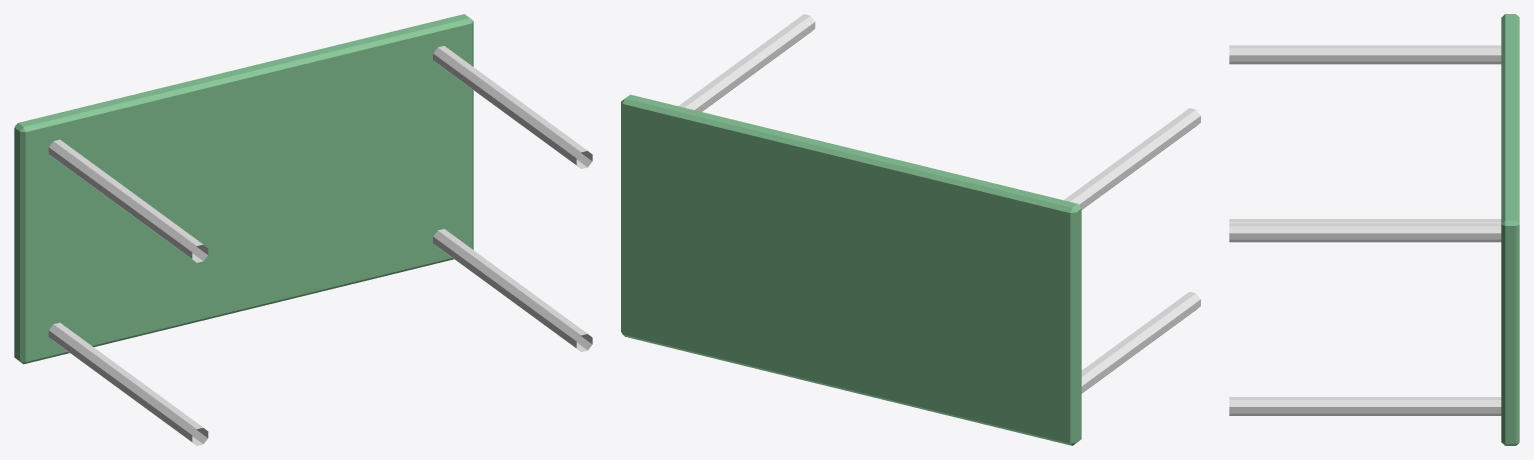
The picture shows the model from 3 angles, left to right: view 1: azimuth 30°, elevation 25°; view 2: azimuth 150°, elevation 25°; view 3: azimuth 270°, elevation 25°; orthographic projection. The views are drawn at different scales.
Parts seen in each view (by area): view 1: Circle; view 2: Circle; view 3: Circle.
Boxes of the visible parts, <box> form: Circle: <box>14,14,592,445</box>; Circle: <box>621,14,1200,445</box>; Circle: <box>1229,14,1519,445</box>.
Size of the model in its own units: 120 by 60 by 70.17.
